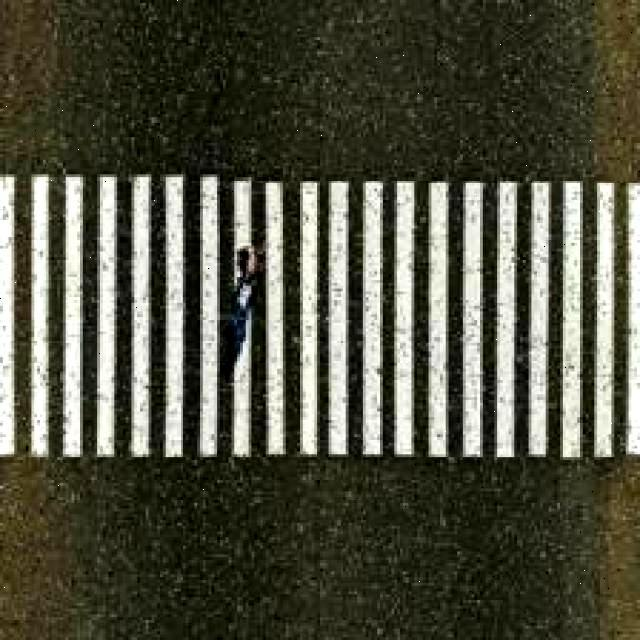crosswalk: (0, 153, 640, 469)
